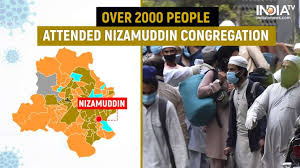mask: (281, 58, 298, 84), (226, 60, 243, 85), (142, 77, 155, 106), (163, 47, 178, 63)
